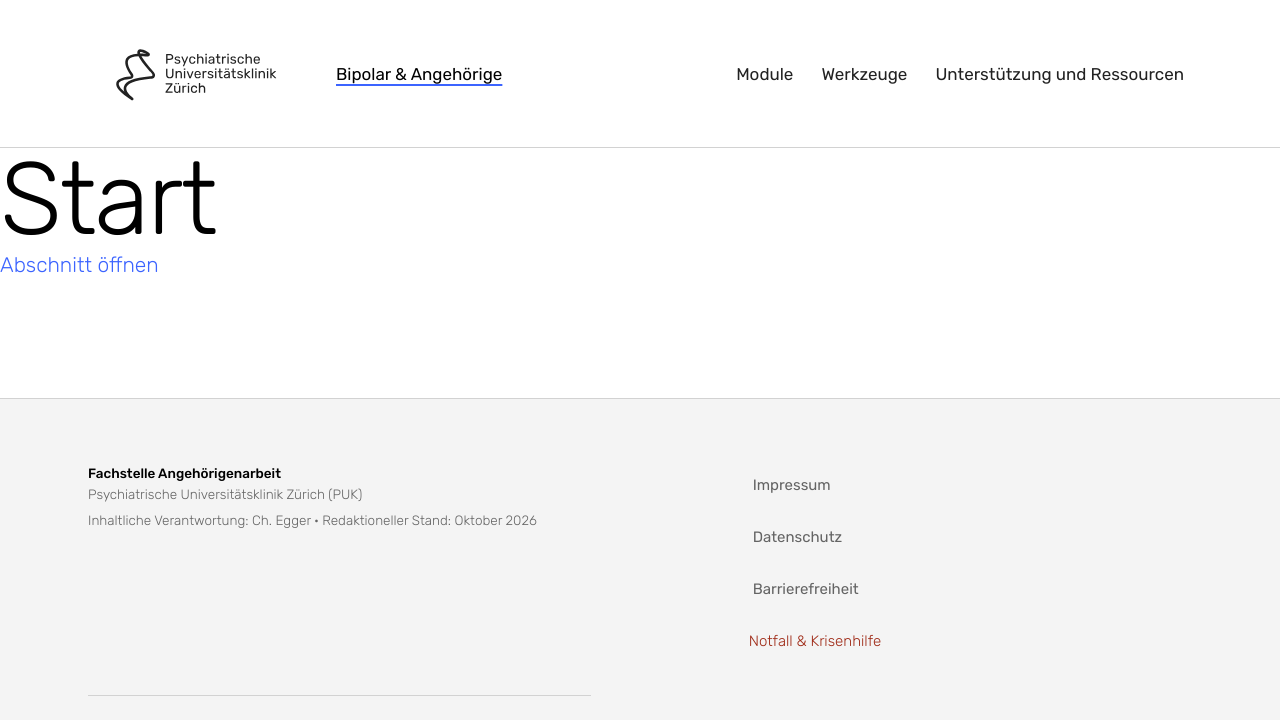
committed page navigation › keeps navigation and the fixed responsibility referral after a psychoeducative import fails
The width and height of the screenshot is (1280, 720).
Click the link "Module" at (765, 74), box [736,64,793,84]
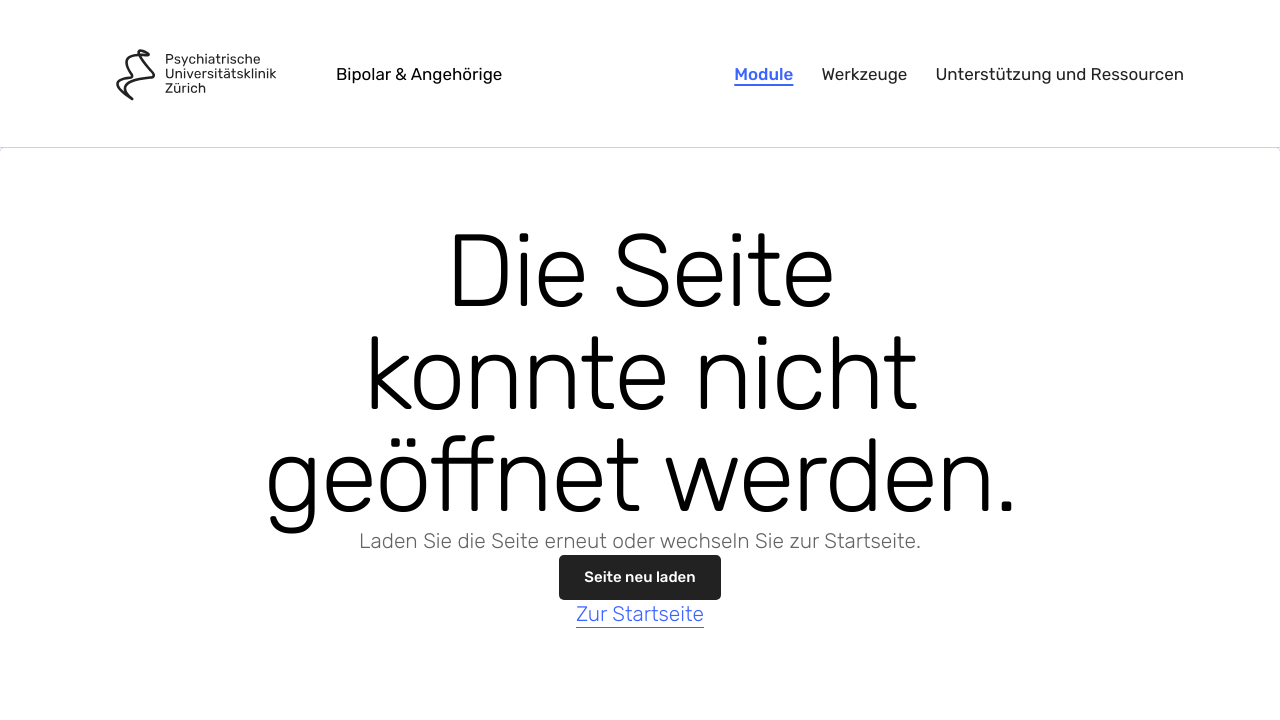
Check: the navigation bar named "Hauptnavigation" is shown, box [0,0,1279,148]
Check: the heading "Die Seite konnte nicht geöffnet werden." is shown, box [200,220,1080,527]
Check: the button "Seite neu laden" is shown, box [559,555,721,600]
Click the link "Zur Startseite" at (640, 615), box [576,601,704,628]
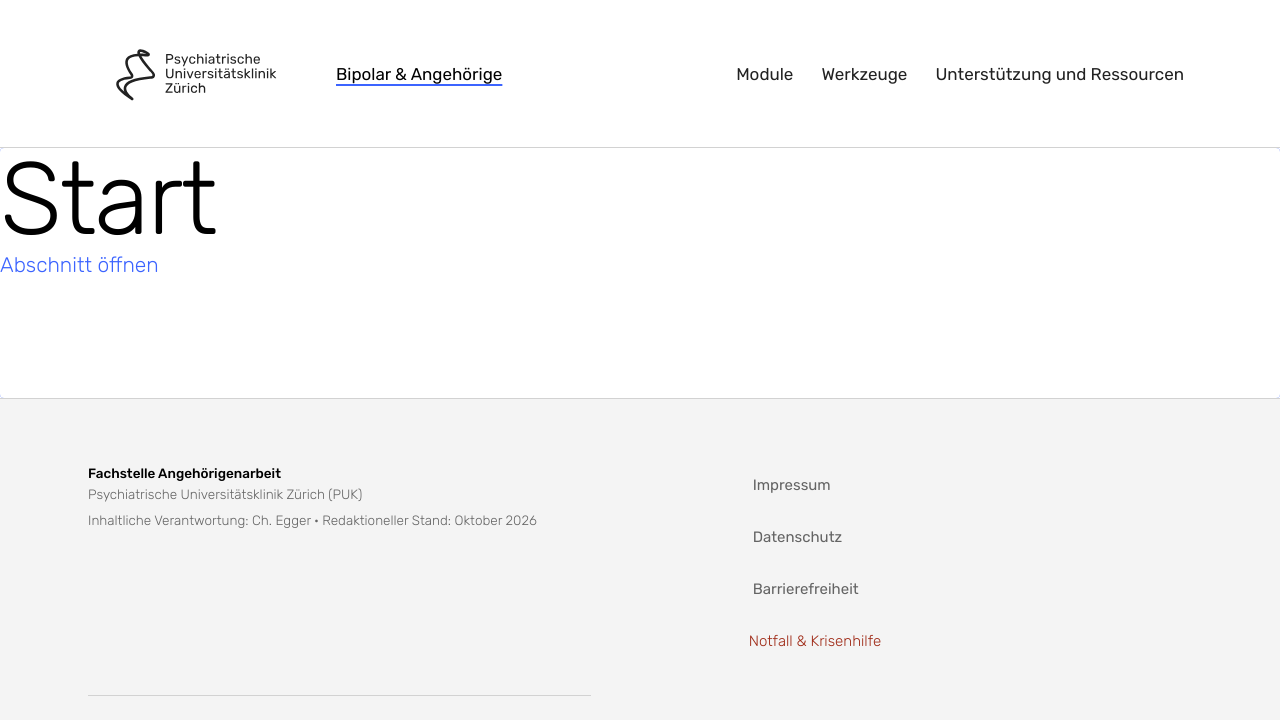
Check: the heading "Start" is shown, box [0,138,216,260]
Check: the message is gone
